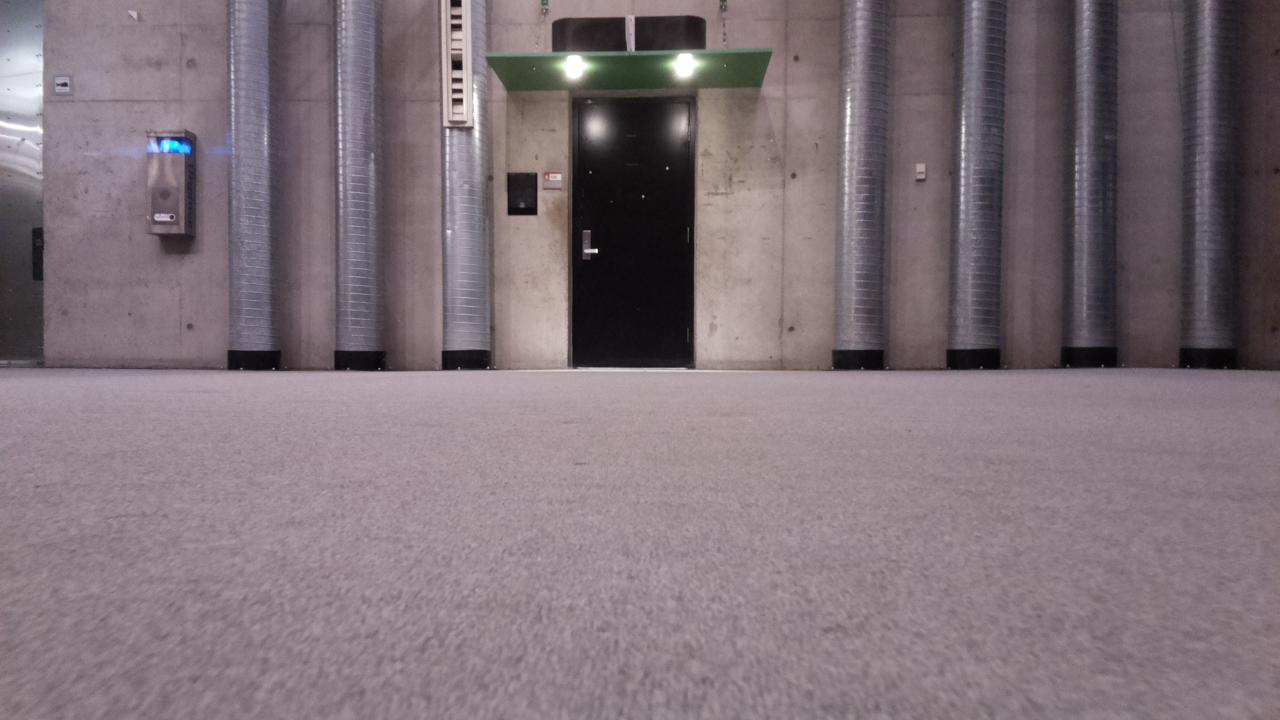door: (574, 104, 688, 366)
sign: (544, 172, 560, 189)
